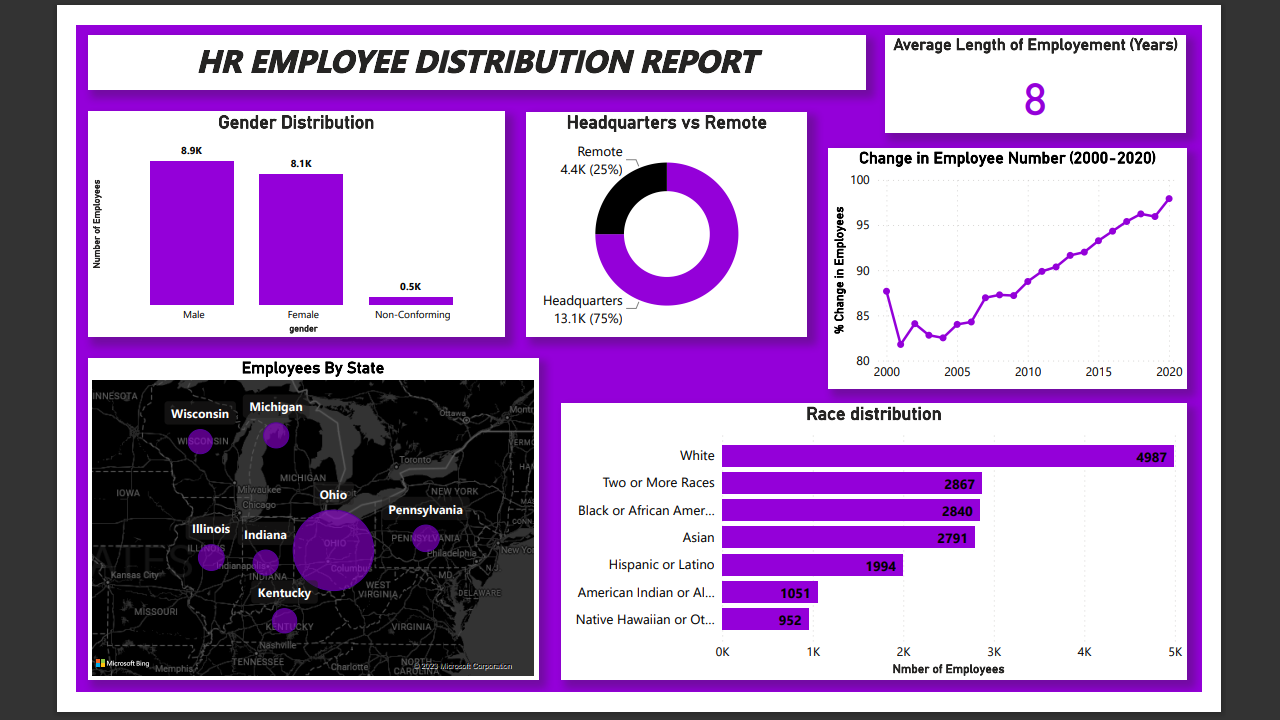

Layout of this report page (visuals, bound fields, positions):
{"tool":"powerbi","page":{"name":"Page 1","canvas":[1350,800],"ordinal":0},"visuals":[{"type":"textbox","box":[14.3,12.9,932.9,65.7],"z":0},{"type":"card","title":"Average Length of Employement (Years)","fields":{"Values":["Sum(avg_length_emp.avg_employment)"]},"box":[970,12.9,361.4,117.1],"z":1},{"type":"columnChart","title":"Gender Distribution","fields":{"Category":["gender.gender"],"Y":["Sum(gender.count)"]},"box":[14.3,103.5,500.2,270.8],"z":2},{"type":"donutChart","title":"Headquarters  vs Remote","fields":{"Y":["Sum(work_nature.count)"],"Category":["work_nature.location"]},"box":[540,104.3,337.1,270],"z":3},{"type":"lineChart","title":"Change in Employee Number (2000-2020)","fields":{"Category":["emp_change.year"],"Y":["Sum(emp_change.net_change_percent)"]},"box":[901.4,148.6,430,288.6],"z":4},{"type":"map","title":"Employees By State","fields":{"Category":["locationsssssss.location_state"],"Size":["Sum(locationsssssss.count)"]},"box":[14,400,540,386],"z":5},{"type":"barChart","title":"Race distribution","fields":{"Category":["race.race"],"Y":["Sum(race.count)"]},"box":[582,454,750,332],"z":6}]}

Visuals, with their boxes on the page's 1350x800 design canvas (x1, y1, x2, y2). These are canvas units, not pixel positions in the 1280x720 screenshot, which may show the page scaled, cropped or inside an application window:
textbox: l=14, t=13, r=947, b=79
"Average Length of Employement (Years)" card: l=970, t=13, r=1331, b=130
"Gender Distribution" columnChart: l=14, t=104, r=514, b=374
"Headquarters  vs Remote" donutChart: l=540, t=104, r=877, b=374
"Change in Employee Number (2000-2020)" lineChart: l=901, t=149, r=1331, b=437
"Employees By State" map: l=14, t=400, r=554, b=786
"Race distribution" barChart: l=582, t=454, r=1332, b=786
